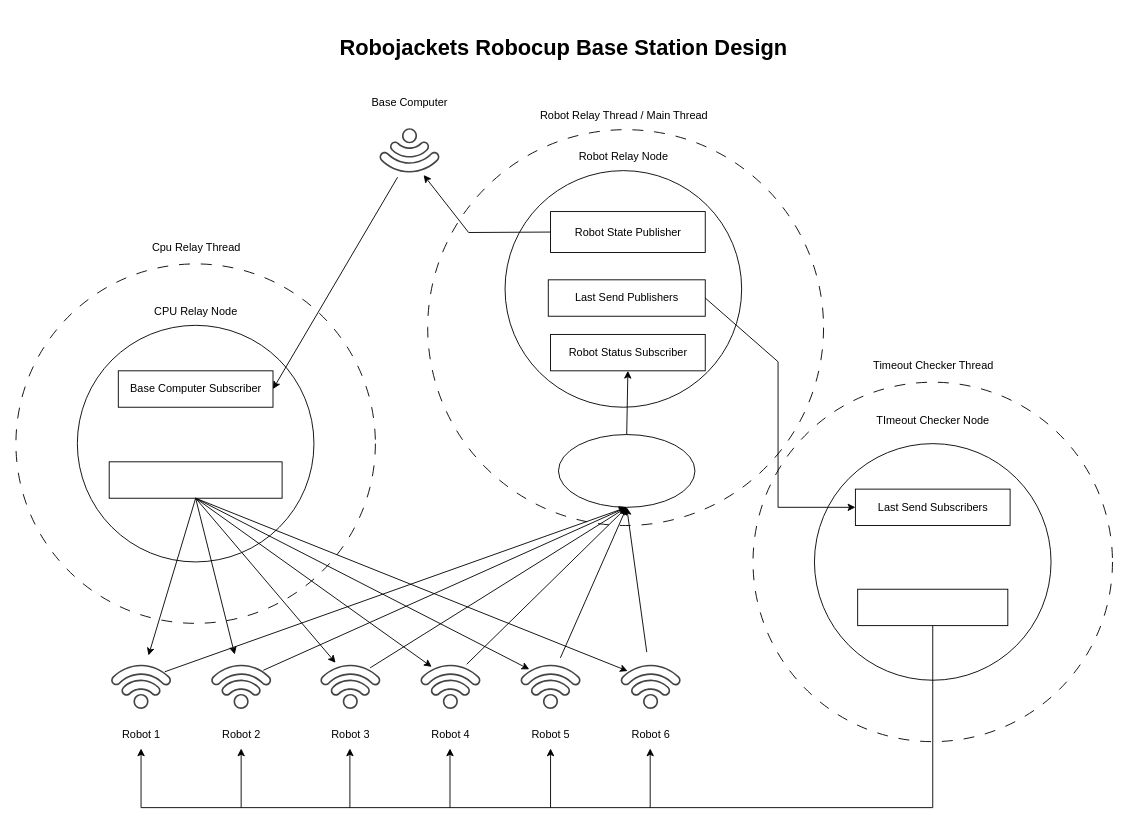
The diagram is 1128 pixels wide and 831 high, and some of its shapes have lost their labels. Here are the shapes that lost their labels. From the top down, the centre of each, then its label:
At pixel 195 479: "Control Message Publisher".
At pixel 626 470: "Radio Rx Interrupt".
At pixel 932 607: "Wake-Up Publisher".
